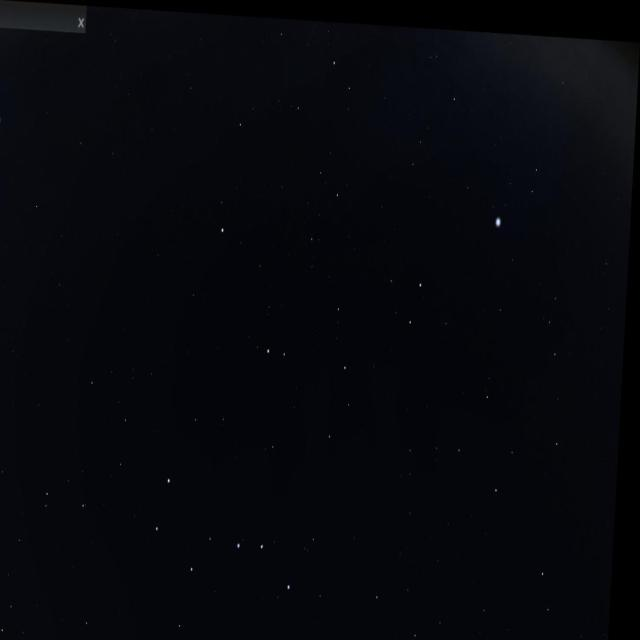lyra: (487, 131, 548, 241)
ursa_major: (150, 457, 312, 600)
